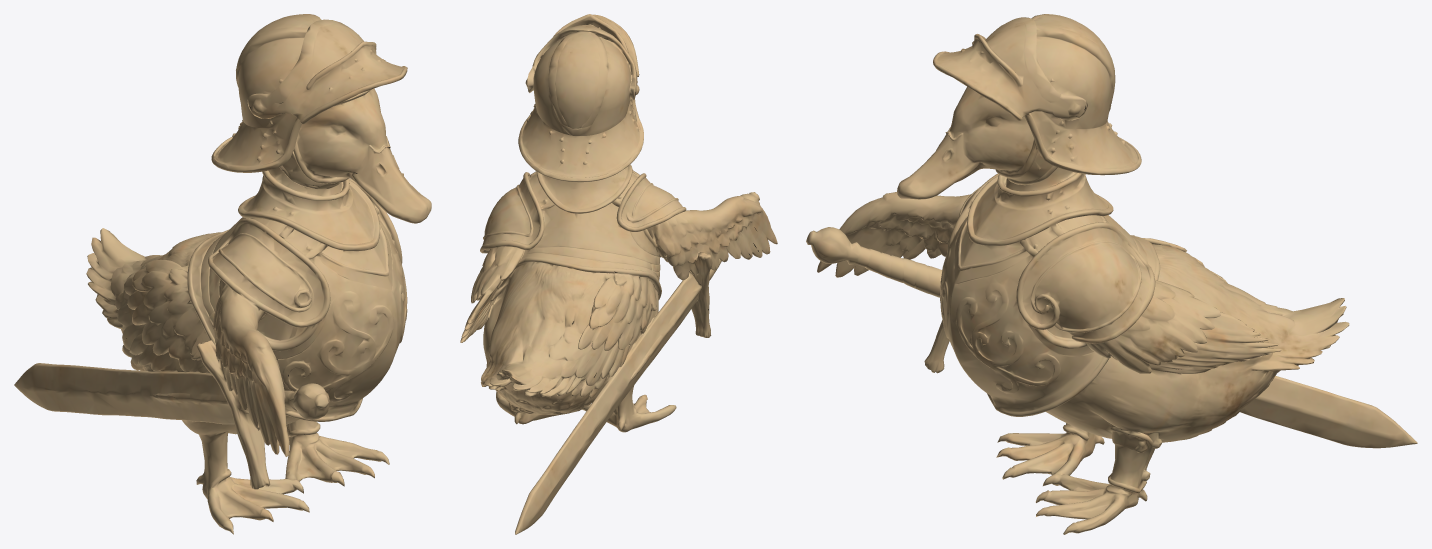
The model's file is duck-web.glb.
3 renders of one model, left to right at view 1: azimuth 30°, elevation 25°; view 2: azimuth 150°, elevation 25°; view 3: azimuth 270°, elevation 25°, orthographic. The views are drawn at different scales.
Visible parts, largest first — view 1: tripo_node_224dd9a1; view 2: tripo_node_224dd9a1; view 3: tripo_node_224dd9a1.
Boxes of the visible parts, x1,y1,x2,y2 form: tripo_node_224dd9a1: (14, 14, 431, 534); tripo_node_224dd9a1: (460, 14, 777, 534); tripo_node_224dd9a1: (806, 14, 1417, 534).
Size of the model in its own units: 0.4264 by 0.8479 by 0.9845.
1 material, 1 textured.
